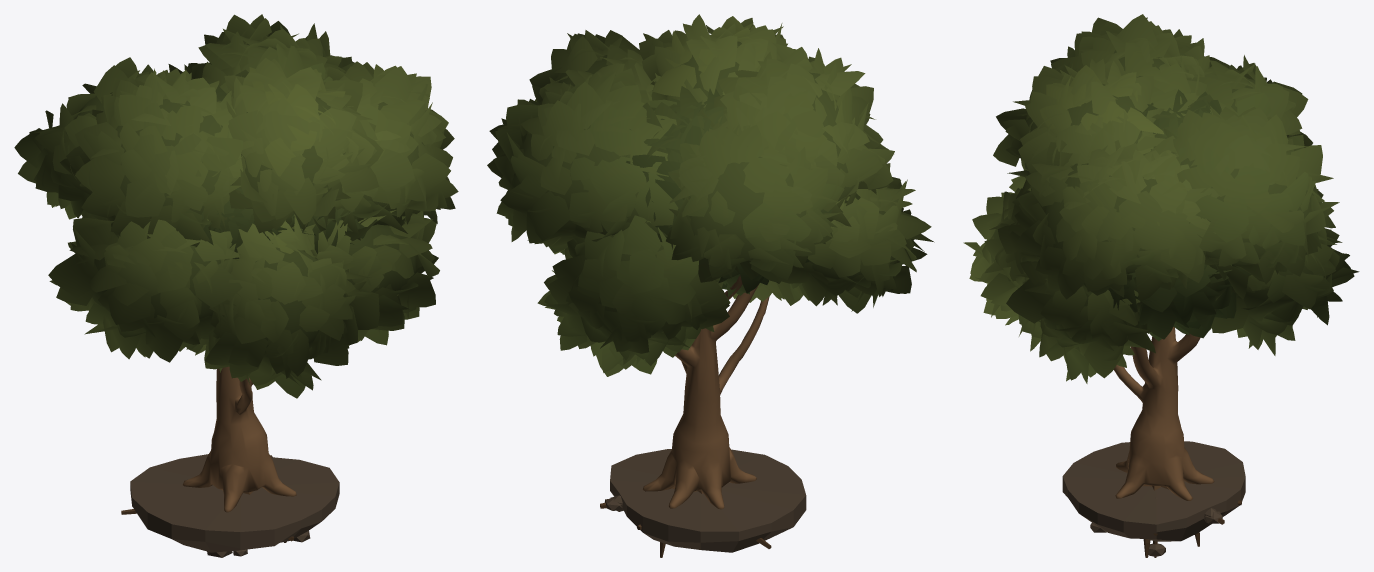
File: oak_003.glb
3 renders of one model, left to right at view 1: azimuth 30°, elevation 25°; view 2: azimuth 150°, elevation 25°; view 3: azimuth 270°, elevation 25°, orthographic. The views are drawn at different scales.
Parts seen in each view (by area): view 1: Oak_003_game.Mesh; view 2: Oak_003_game.Mesh; view 3: Oak_003_game.Mesh.
Boxes of the visible parts, left/top/right/bottom form: Oak_003_game.Mesh: left=14, top=14, right=458, bottom=557; Oak_003_game.Mesh: left=487, top=14, right=934, bottom=557; Oak_003_game.Mesh: left=963, top=14, right=1359, bottom=557.
Bounding box in the file's own units: 6.76 × 8.3 × 6.19.
Materials: 6 (1 with a texture image).
